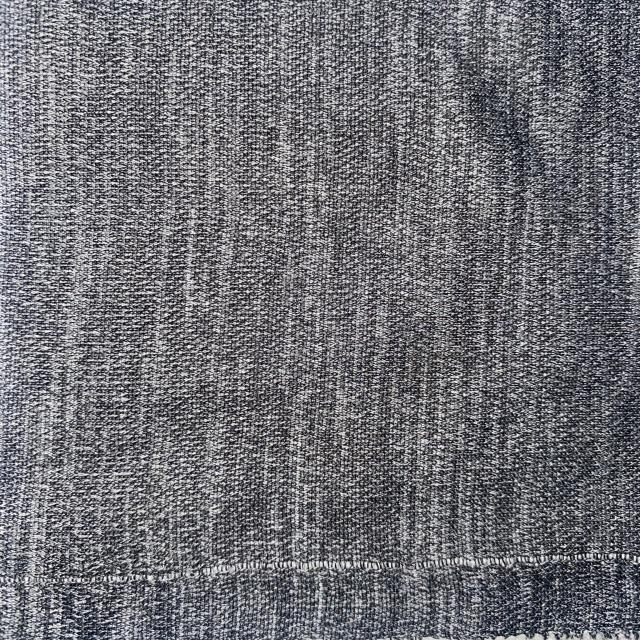Line: (0, 550, 640, 585)
